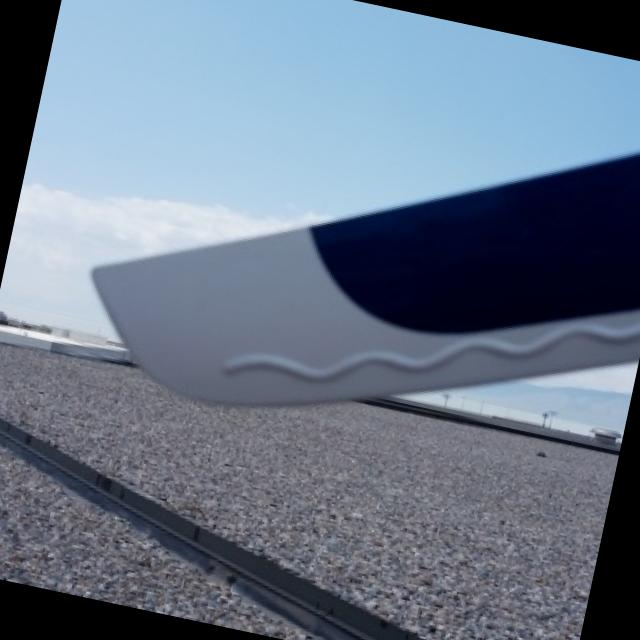healthy: (92, 152, 640, 402)
